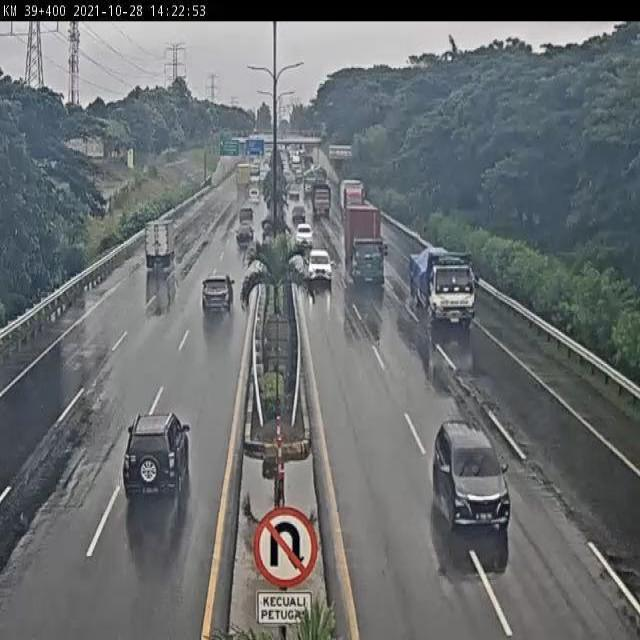KAMYONET: (142, 219, 176, 273)
TIR: (411, 249, 478, 327), (344, 203, 386, 284)
